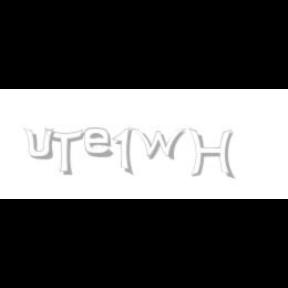1: (112, 128, 134, 176)
H: (189, 128, 235, 180)
T: (44, 128, 84, 176)
e: (84, 128, 118, 158)
u: (23, 128, 58, 160)
w: (132, 128, 190, 160)
